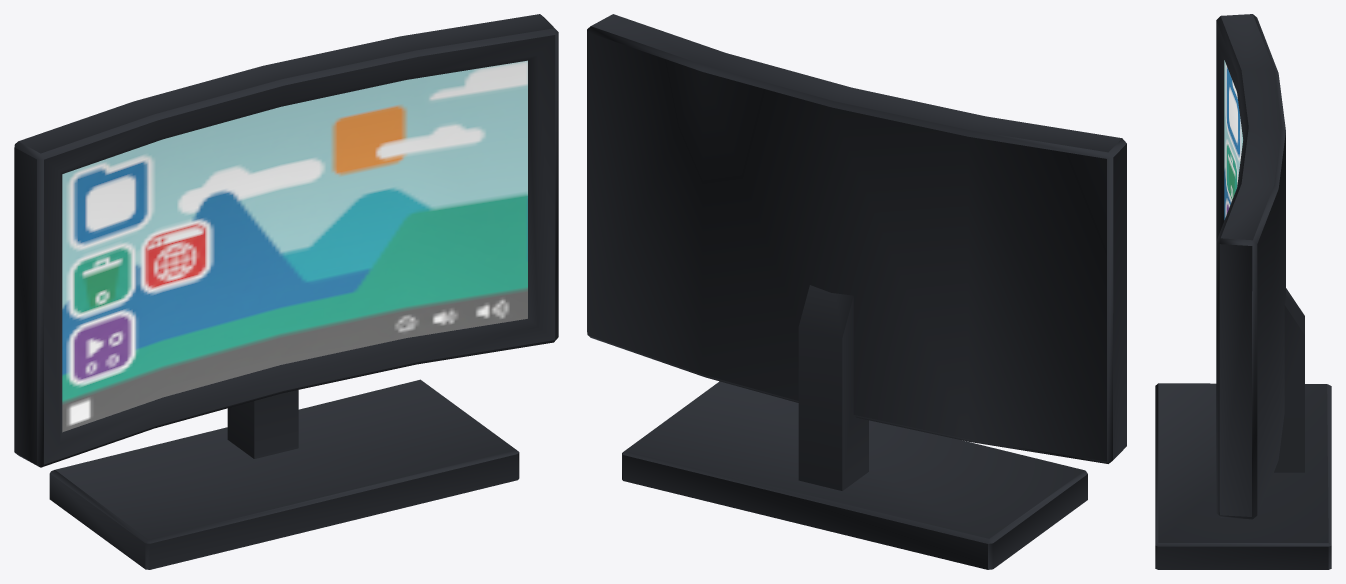
File: monitor_cassino_pacote.glb
The picture shows the model from 3 angles, left to right: view 1: azimuth 30°, elevation 25°; view 2: azimuth 150°, elevation 25°; view 3: azimuth 270°, elevation 25°; orthographic projection. The views are drawn at different scales.
Parts seen in each view (by area): view 1: monitor_cassino_pacote; view 2: monitor_cassino_pacote; view 3: monitor_cassino_pacote.
Part boxes in pixels (x1,y1,x2,y2): monitor_cassino_pacote: (14,14,558,569); monitor_cassino_pacote: (587,14,1126,569); monitor_cassino_pacote: (1155,14,1331,569).
Size of the model in its own units: 0.7096 by 0.5208 by 0.2299.
2 materials, 2 textured.
